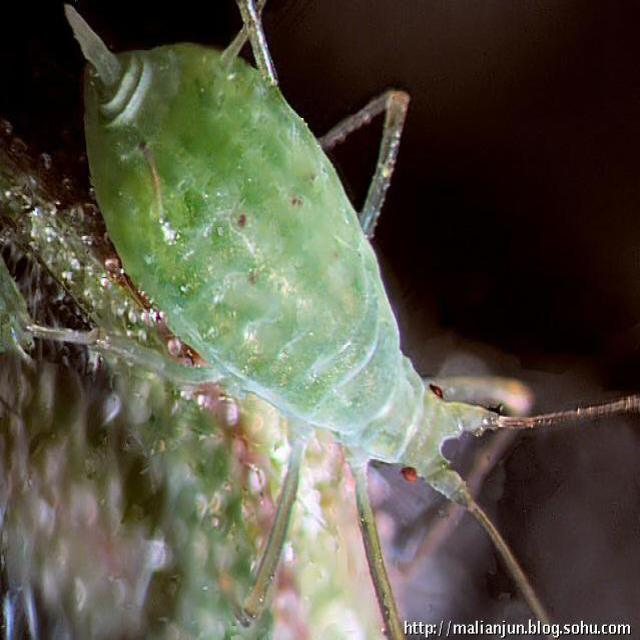Aphids: (33, 6, 616, 591)
